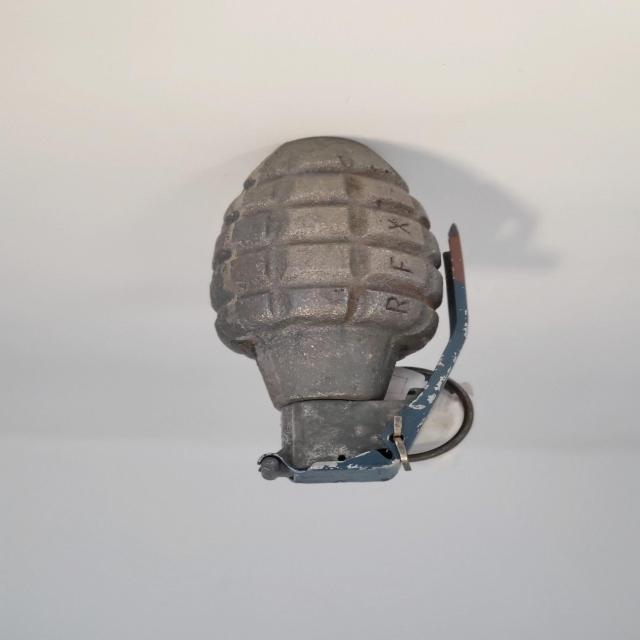grenade: (211, 136, 471, 484)
